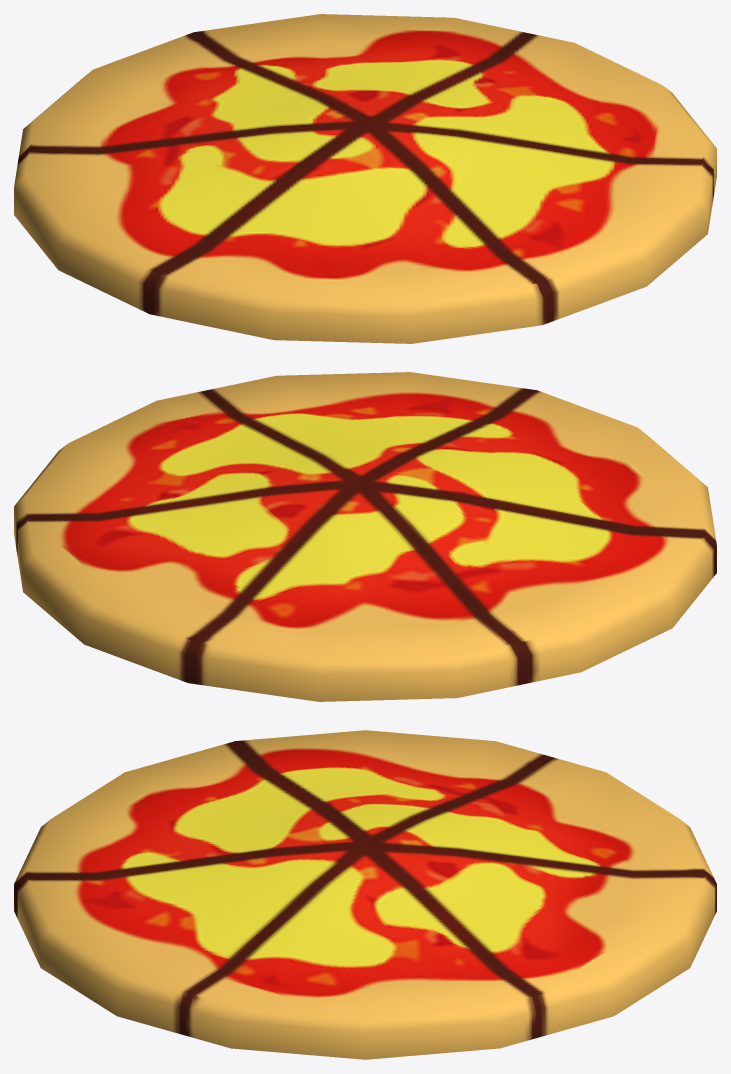
Rendered from pizza final.FBX.
3 views of the same model, one above another, from view 1: azimuth 30°, elevation 25°; view 2: azimuth 150°, elevation 25°; view 3: azimuth 270°, elevation 25° (orthographic).
Visible parts, largest first — view 1: Object375; view 2: Object375; view 3: Object375.
Part boxes in pixels (<box>): Object375: <box>14,14,716,343</box>; Object375: <box>14,372,716,701</box>; Object375: <box>14,730,716,1059</box>.
Bounding box in the file's own units: 1.52 × 0.1643 × 1.52.
